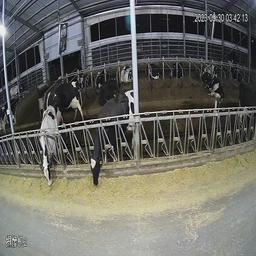cow: (88, 87, 141, 185), (36, 99, 63, 198), (237, 78, 255, 146), (201, 67, 228, 106), (37, 84, 63, 108), (148, 54, 165, 82), (170, 56, 186, 85), (115, 58, 133, 83), (68, 67, 82, 95), (91, 67, 106, 87)
